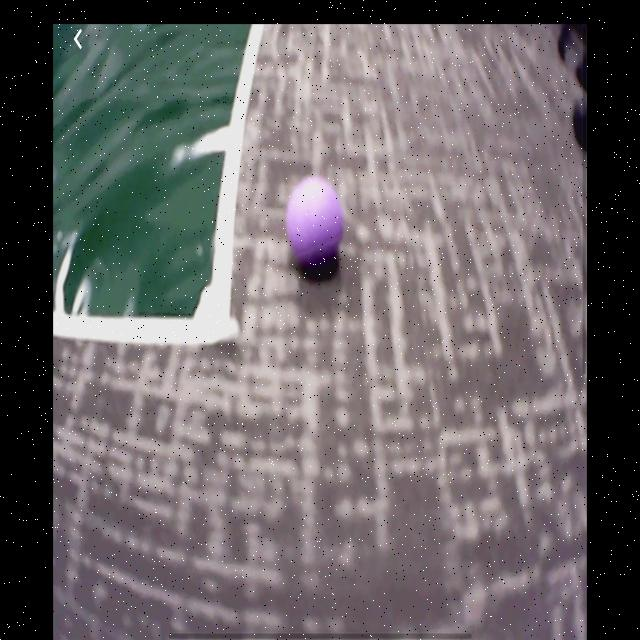ball: (286, 175, 344, 259)
